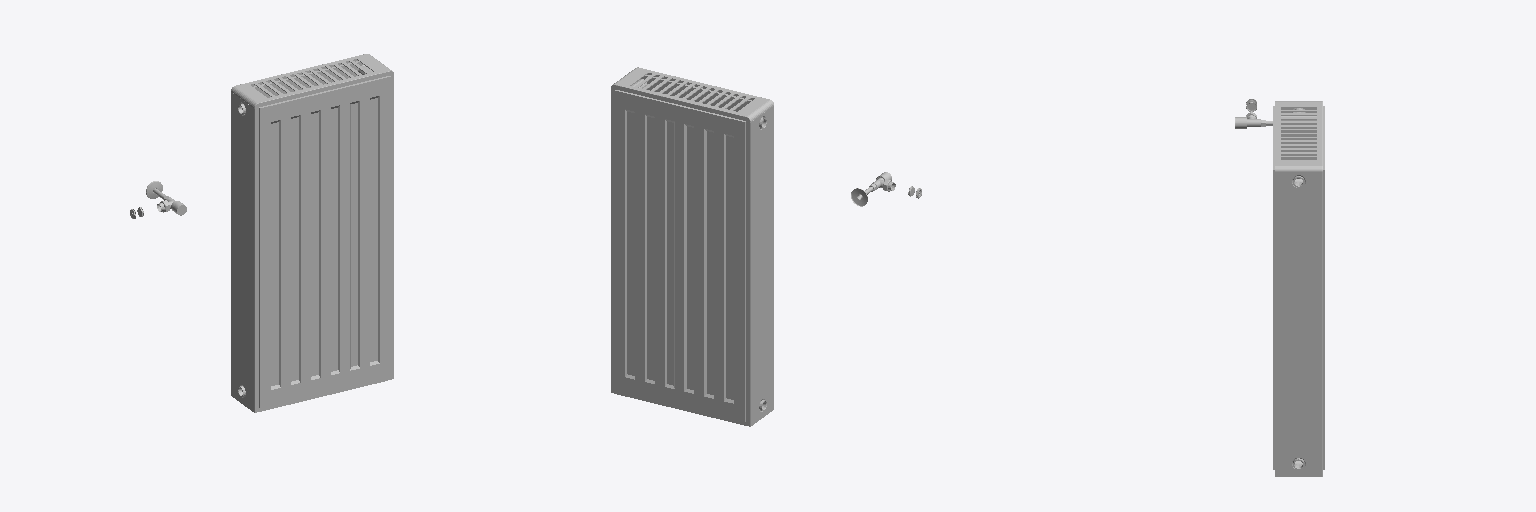
Rendered from radiator.obj.
3 renders of one model, left to right at view 1: azimuth 30°, elevation 25°; view 2: azimuth 150°, elevation 25°; view 3: azimuth 270°, elevation 25°, orthographic.
Parts seen in each view (by area): view 1: Radiator, Radiator_valve; view 2: Radiator, Radiator_valve; view 3: Radiator.
Part boxes in pixels (x1,y1,x2,y2): Radiator: (231,54,393,412); Radiator_valve: (146,181,186,215); Radiator: (611,67,773,426); Radiator_valve: (851,172,895,206); Radiator: (1273,101,1324,476).
Bounding box in the file's own units: 0.5608 × 0.6004 × 0.1588.